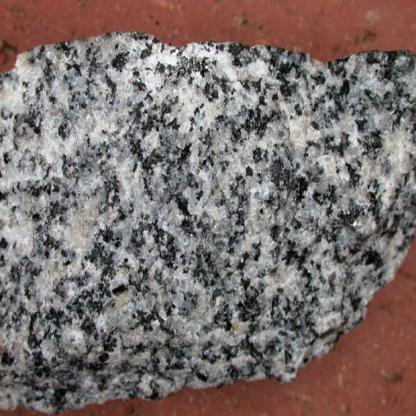Sedimentary_Chalk: (10, 81, 338, 366)
